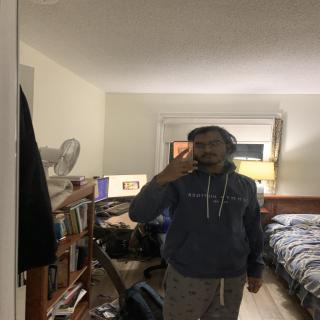Blue Hoodie: (130, 164, 264, 294)
